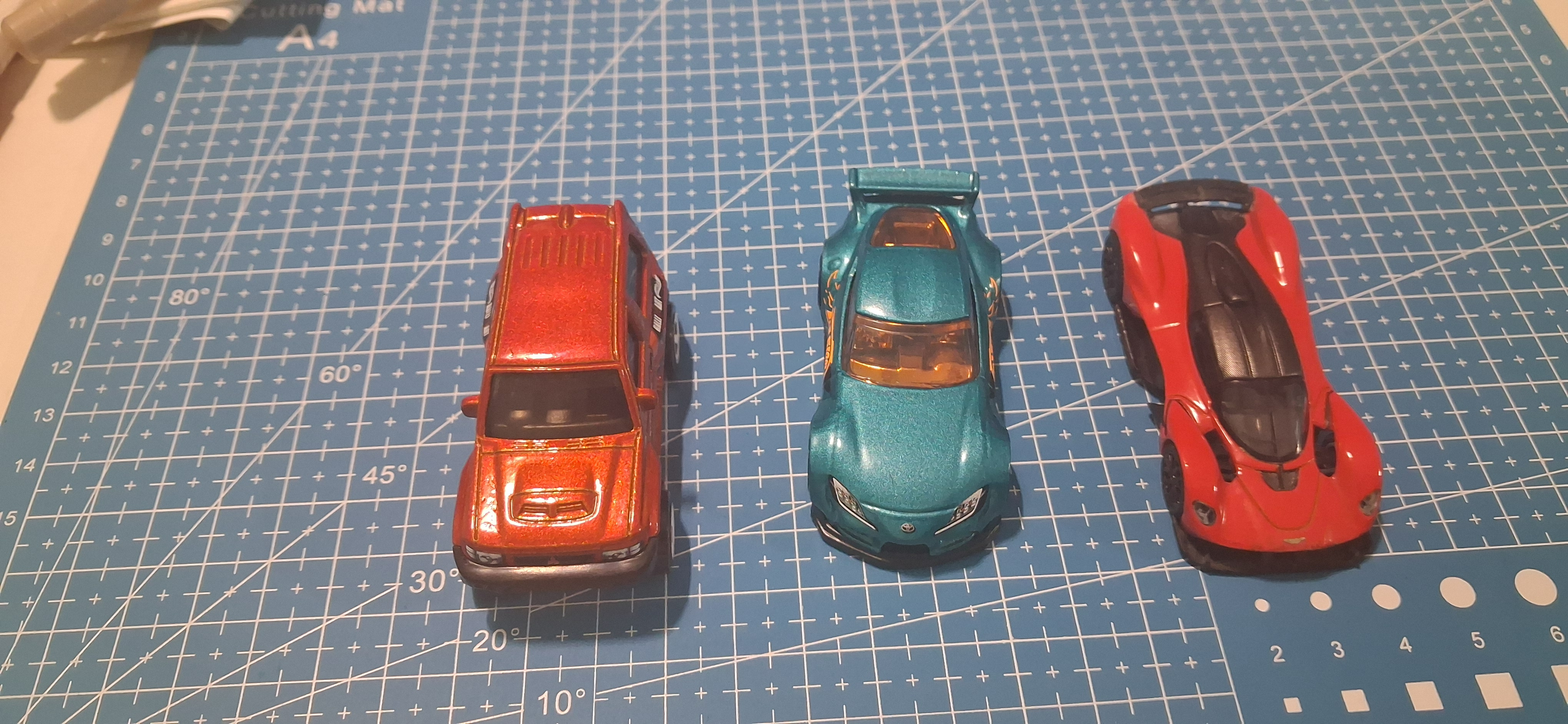Aston_Martin_Valkyrie: (1077, 153, 1425, 593)
Mitsubishi_Pajero_Evolution: (430, 169, 722, 616)
Toyota_GR_Supra: (776, 139, 1055, 594)
